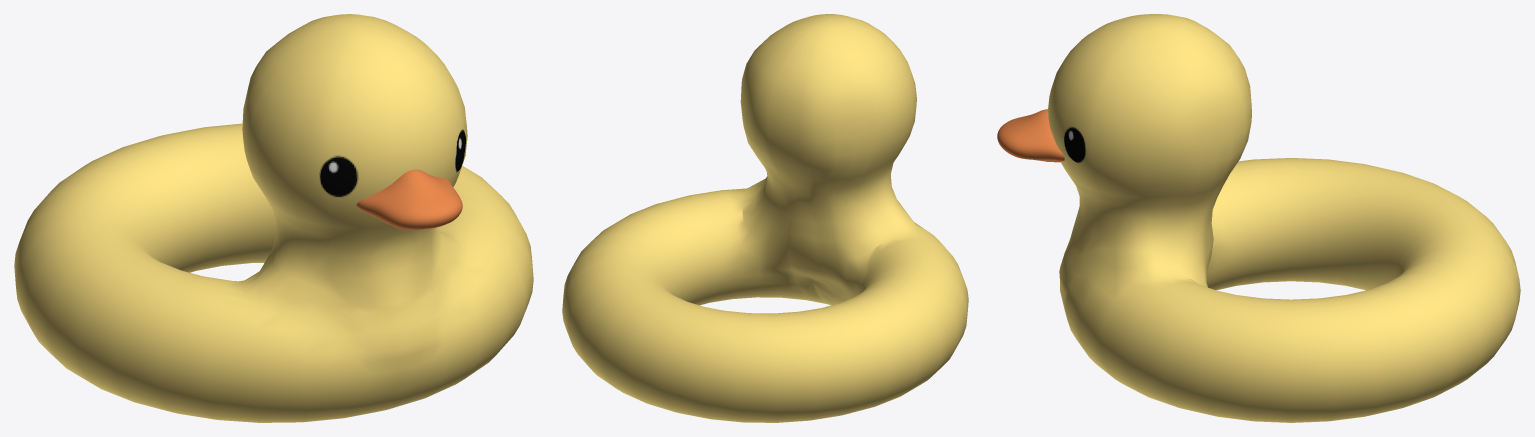
3 views of the same model, side by side, from view 1: azimuth 30°, elevation 25°; view 2: azimuth 150°, elevation 25°; view 3: azimuth 270°, elevation 25° (orthographic). The views are drawn at different scales.
Visible parts, largest first — view 1: simple_1, bill simple_0; view 2: simple_1; view 3: simple_1, bill simple_0.
Part boxes in pixels (bbox=[...]): simple_1: bbox=[14, 14, 533, 422]; bill simple_0: bbox=[356, 169, 462, 229]; simple_1: bbox=[562, 14, 968, 422]; simple_1: bbox=[1048, 14, 1520, 422]; bill simple_0: bbox=[997, 109, 1064, 162].
Bounding box in the file's own units: 4.68 × 3.65 × 5.34.
2 materials, 1 textured.
